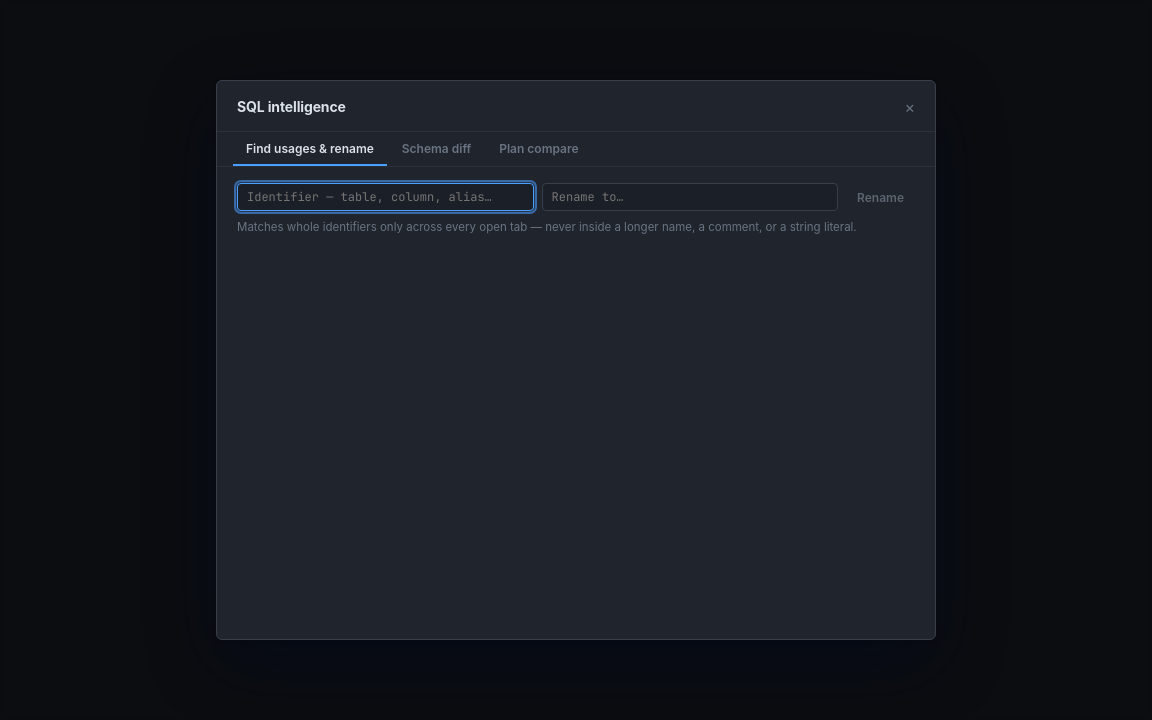
IntelModal — schema diff › defaults to two different schemas so compare is usable at once
The image size is (1152, 720).
Step 1. Click the button "Schema diff" → (436, 149), box [389,132,484,166]
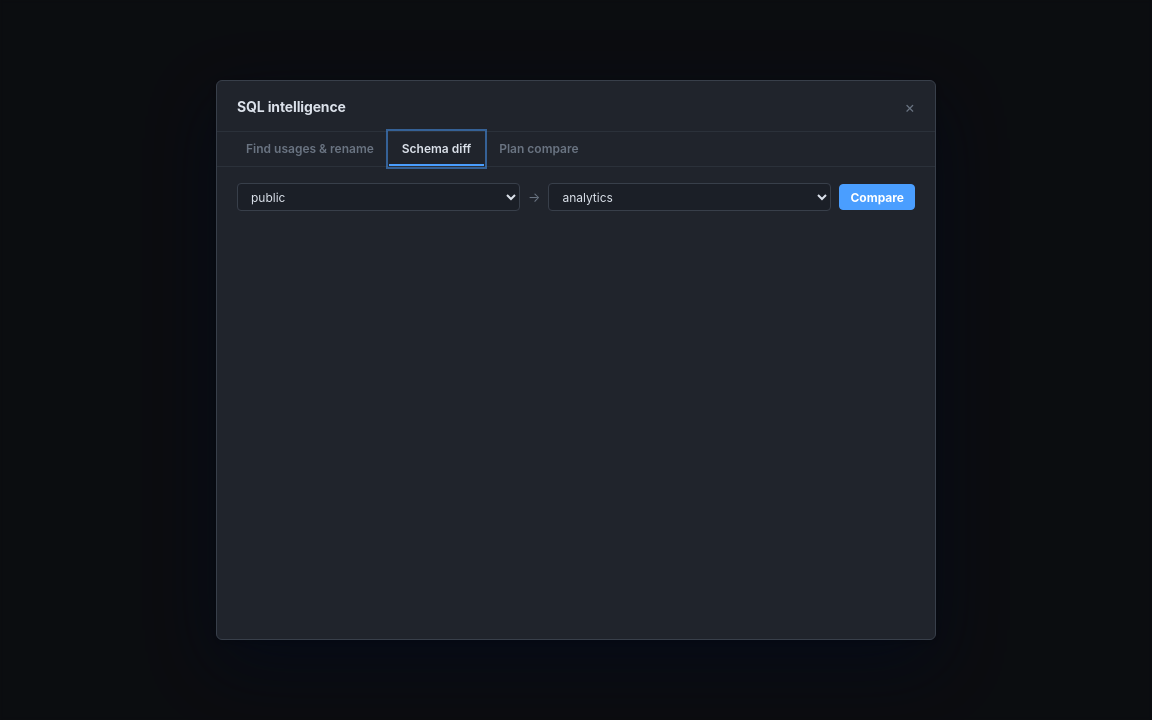
Check: the button "Compare" is enabled, box [839,184,915,210]
